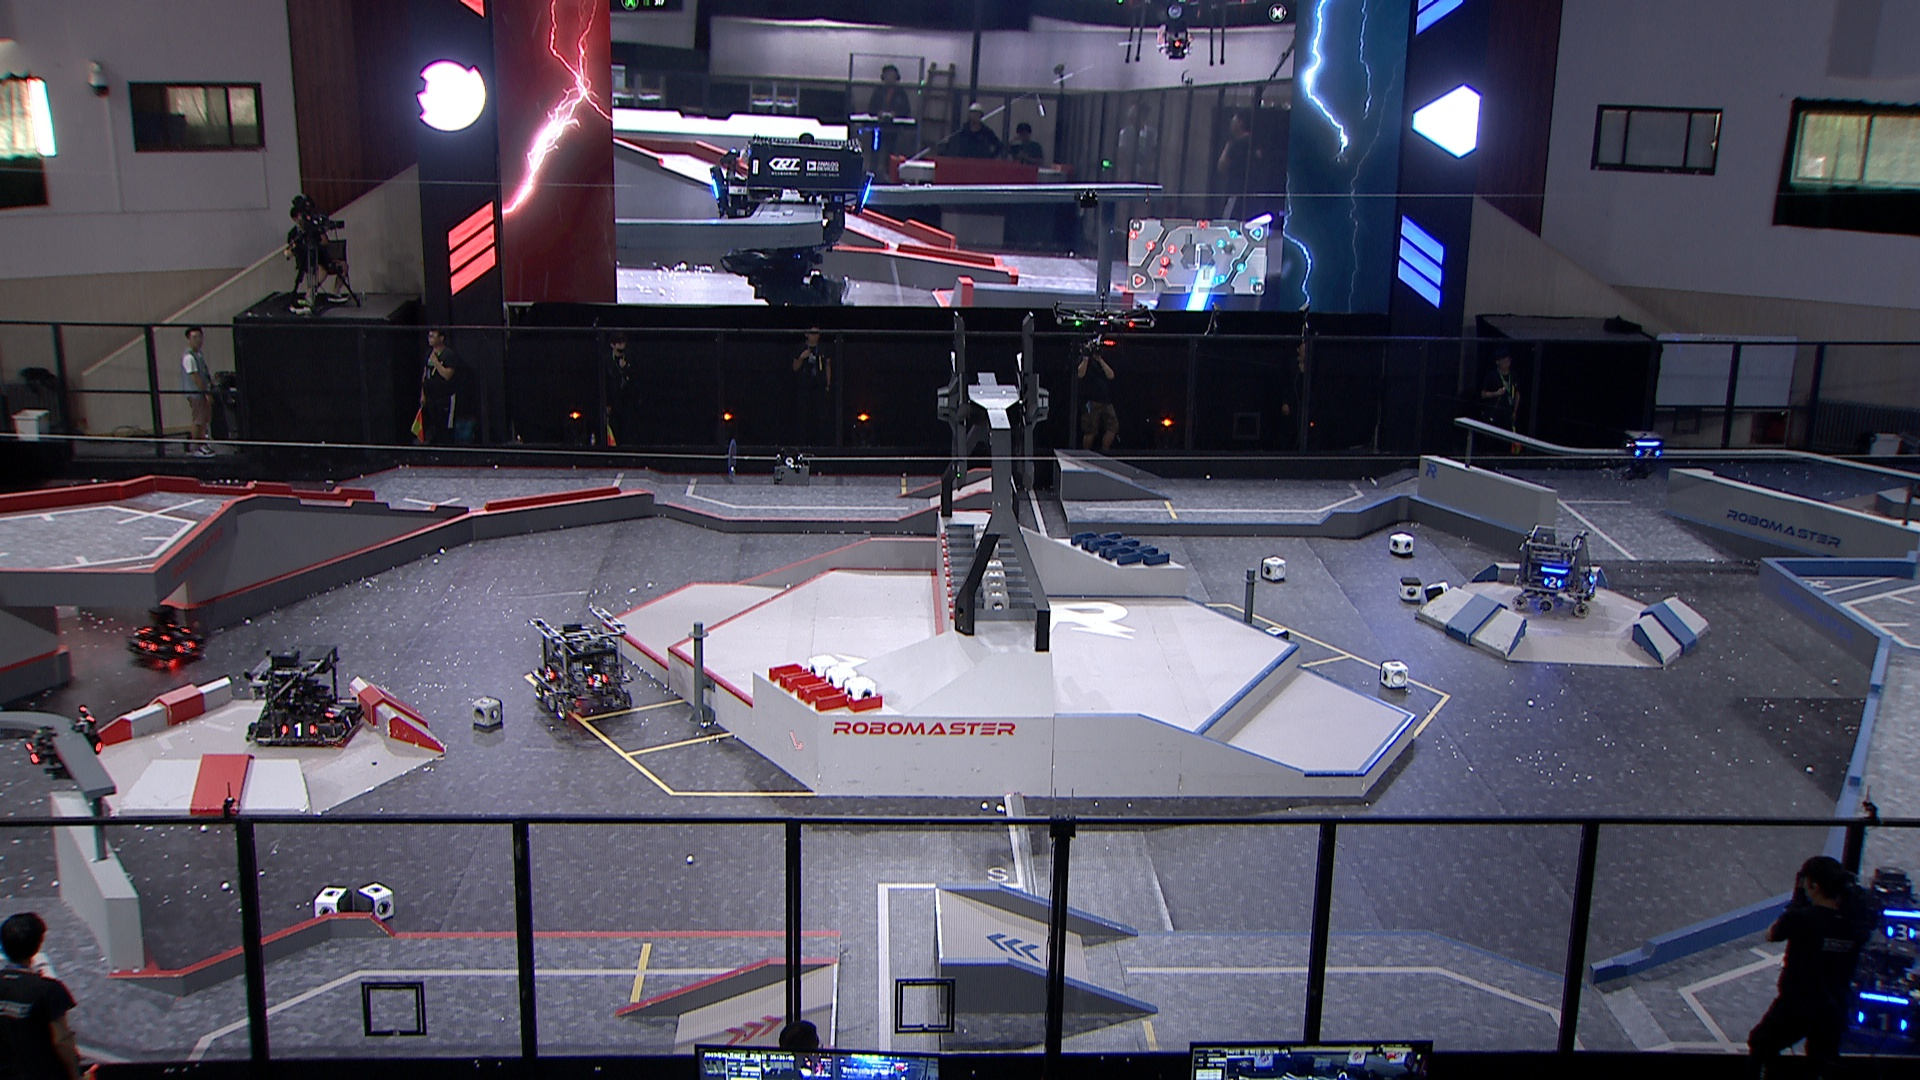armor: (1855, 1006, 1911, 1039), (277, 716, 318, 741), (320, 698, 351, 723), (21, 738, 44, 767), (157, 624, 191, 642), (583, 670, 612, 688), (1633, 446, 1664, 462), (338, 707, 357, 732), (1539, 572, 1565, 591), (537, 662, 556, 684), (136, 638, 160, 655), (173, 640, 196, 655)
car: (522, 608, 641, 723), (245, 640, 365, 749), (1822, 936, 1920, 1044), (1513, 520, 1604, 617), (1845, 865, 1920, 949), (120, 603, 210, 671)
ignore: (703, 124, 877, 309)
watcher: (21, 705, 105, 789), (1619, 425, 1664, 480)
